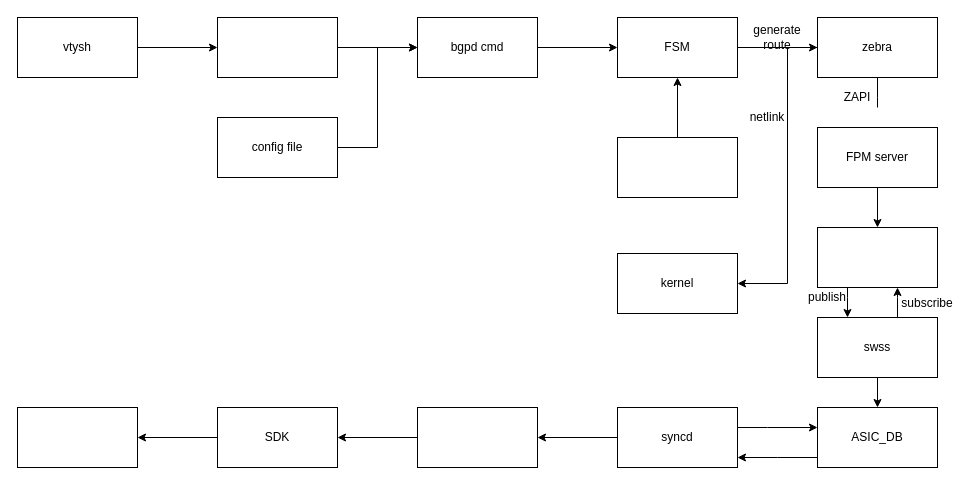
Image size: 970x485. Some labels were removed from this diagram. Each missing label, with the centre of its shape:
"APPL_DB" belongs at (x=877, y=257).
"ASIC" belongs at (x=77, y=437).
"receive Packet" belongs at (x=677, y=167).
"SAI" belongs at (x=477, y=437).
"vtycmd" belongs at (x=277, y=47).
